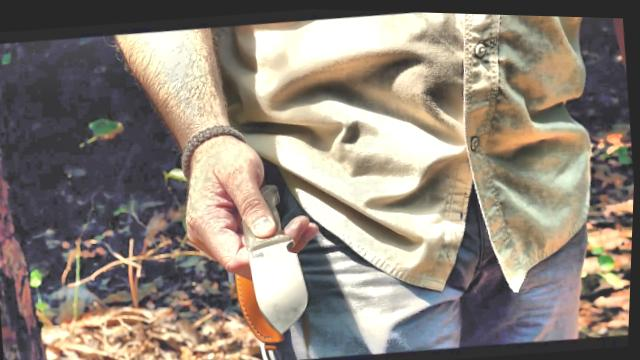knife: (182, 168, 336, 348)
